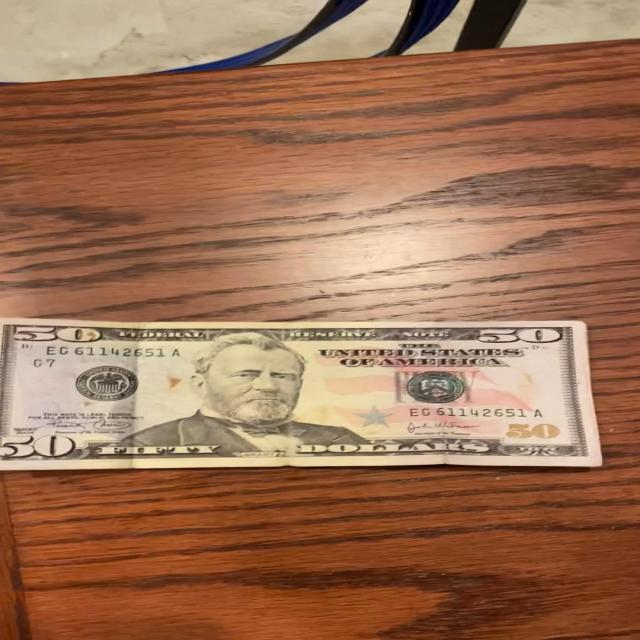50-Front: (0, 320, 608, 478)
